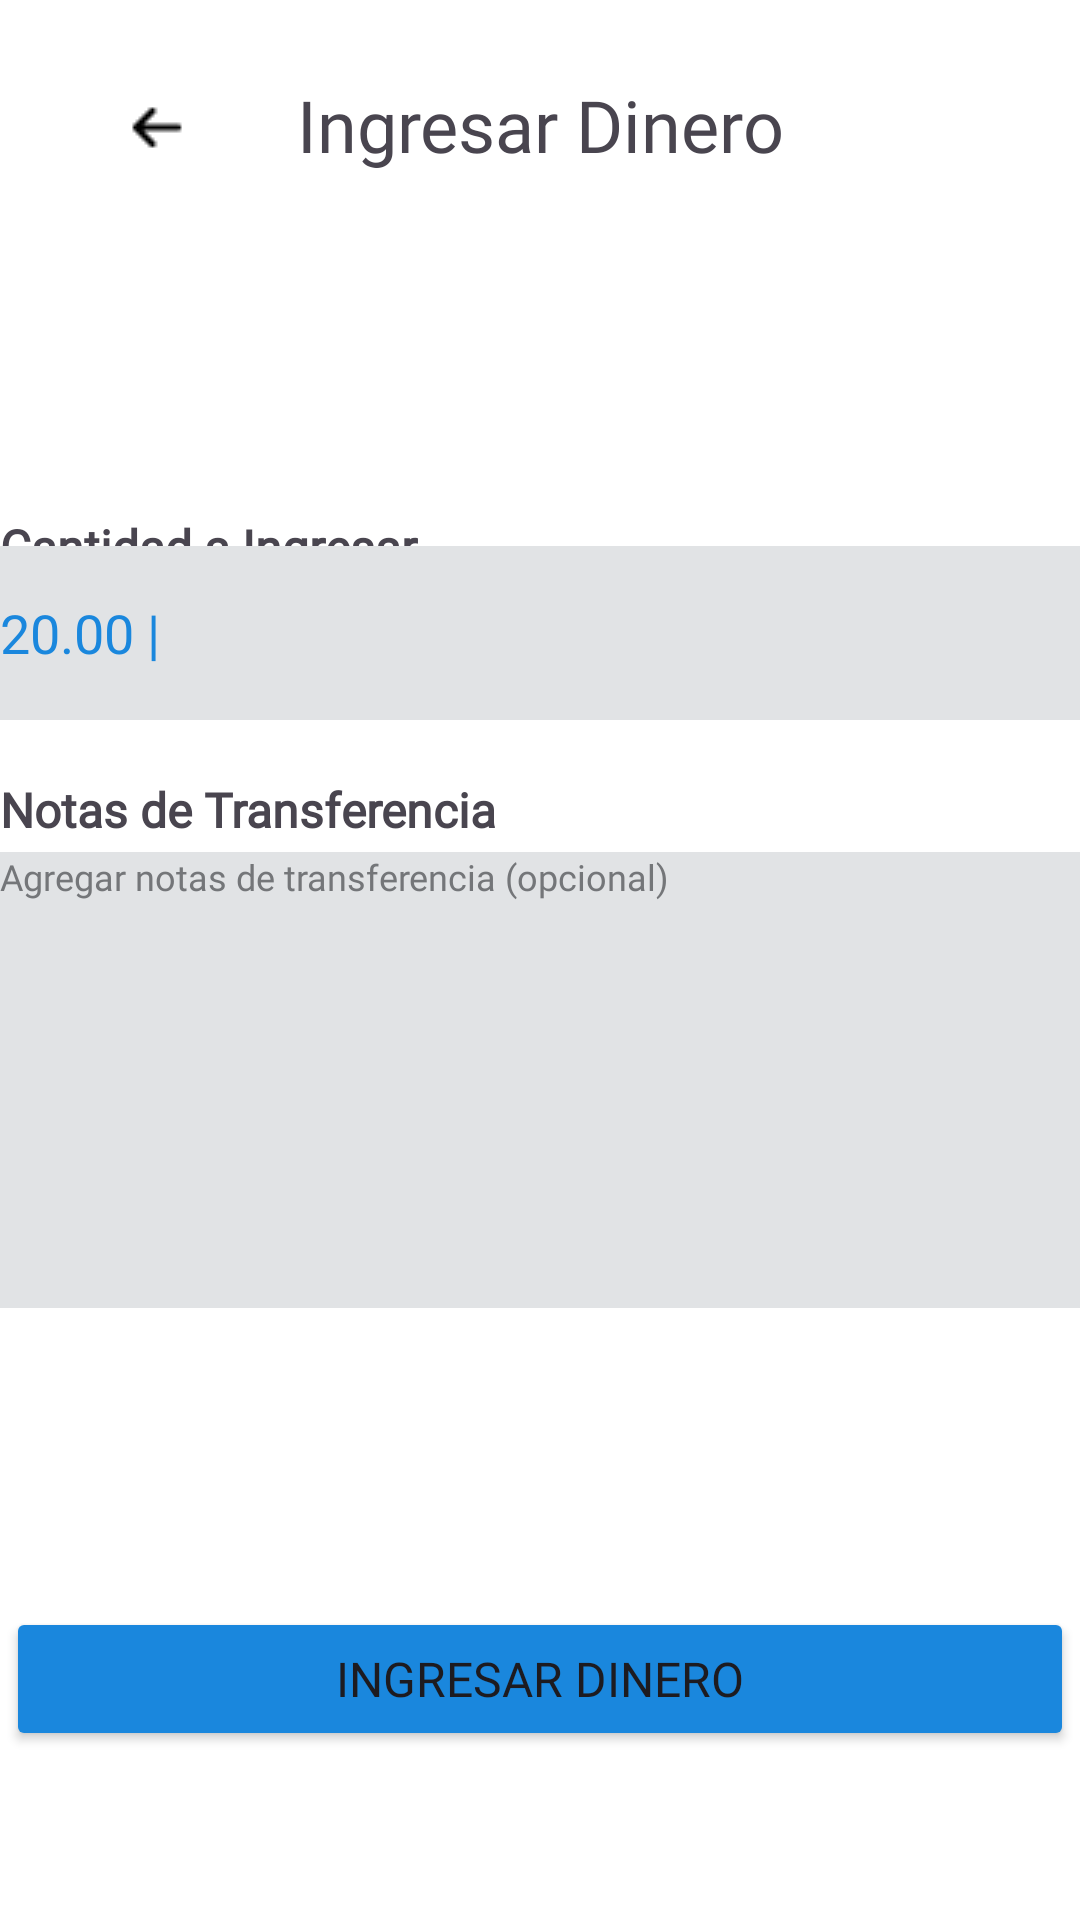

Where to tap for icons on this 1080 x 1920 app screen, as [x,y]:
flecha: [157,127]
